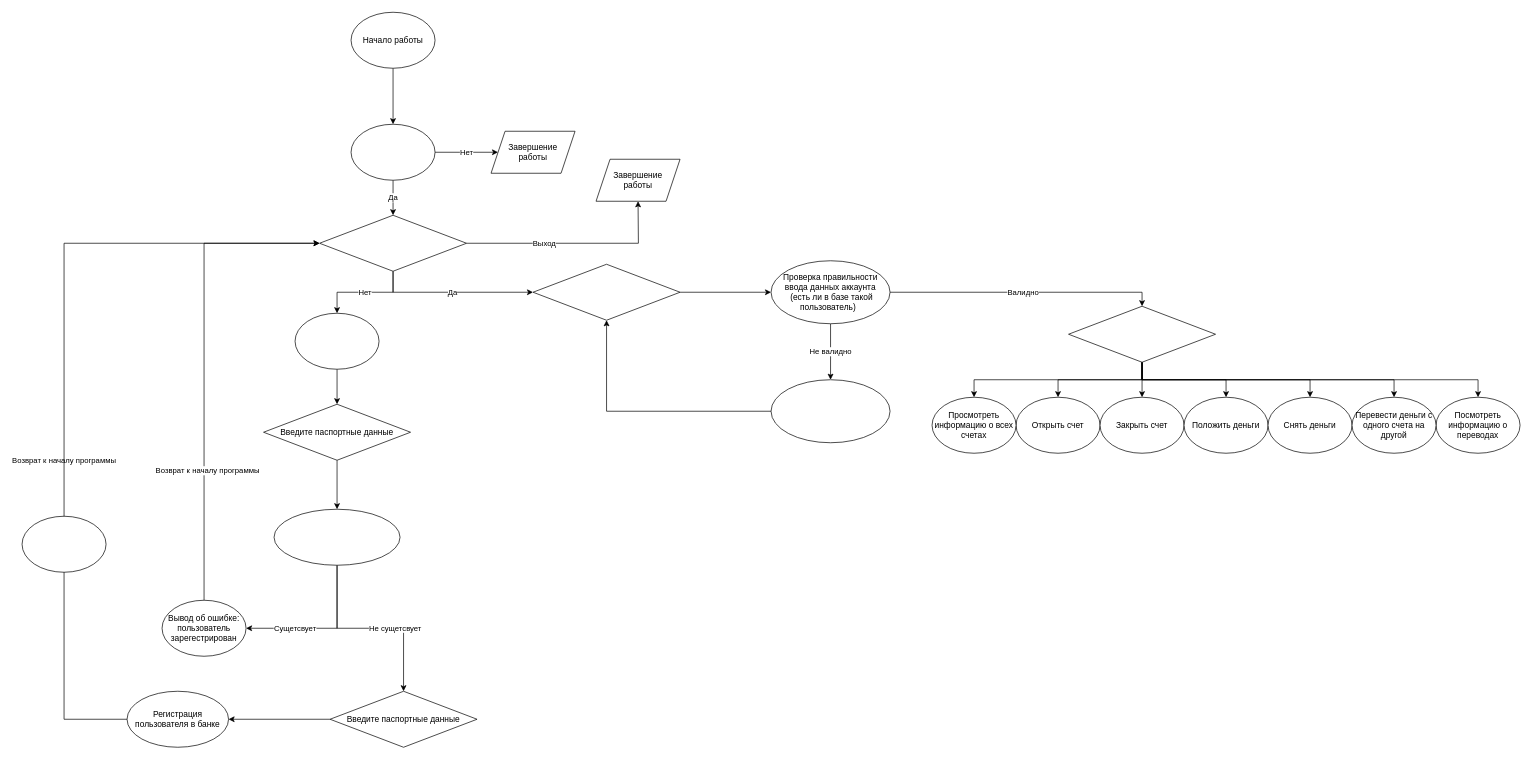
Image size: 1532x760. Some labels were removed from this diagram. Each missing label, with the centre of its shape:
"Введите логин и пароль" belongs at pixel 606 292.
"Выберите опцию" belongs at pixel 1142 334.
"Начало регистрации" belongs at pixel 336 341.
"Неправильные данные для входа" belongs at pixel 830 411.
"Оповещение, что аккаунт создан" belongs at pixel 63 544.
"Проверка соединения успешна?" belongs at pixel 392 152.
"Проверка существования аккаунта по номеру паспорта в банке" belongs at pixel 336 537.
"У вас есть аккаунт? (Ввод пользователя)" belongs at pixel 393 243.
